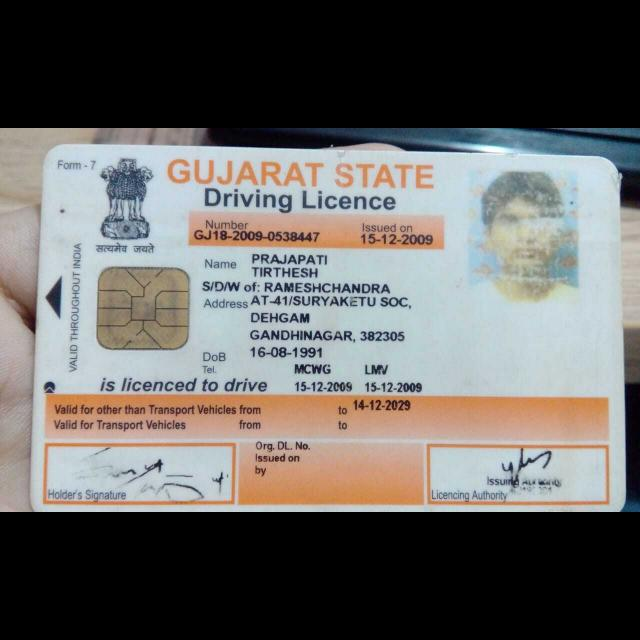driving_licence: (23, 136, 635, 512)
